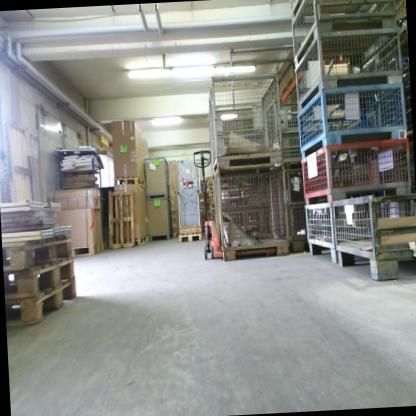pallet: (5, 277, 76, 328), (3, 257, 75, 299), (2, 233, 74, 270), (107, 189, 135, 248), (74, 237, 106, 259), (113, 175, 143, 187), (177, 230, 203, 243), (134, 237, 147, 245)
pallet_truck: (192, 143, 283, 262)
stillage: (283, 157, 379, 254), (295, 82, 409, 161), (292, 29, 405, 104), (330, 185, 416, 281), (207, 70, 284, 176), (302, 196, 416, 266), (214, 163, 293, 264), (290, 0, 403, 67), (300, 140, 415, 203), (211, 172, 286, 249), (204, 100, 276, 177), (289, 0, 399, 26), (144, 195, 173, 242), (142, 155, 171, 199)
